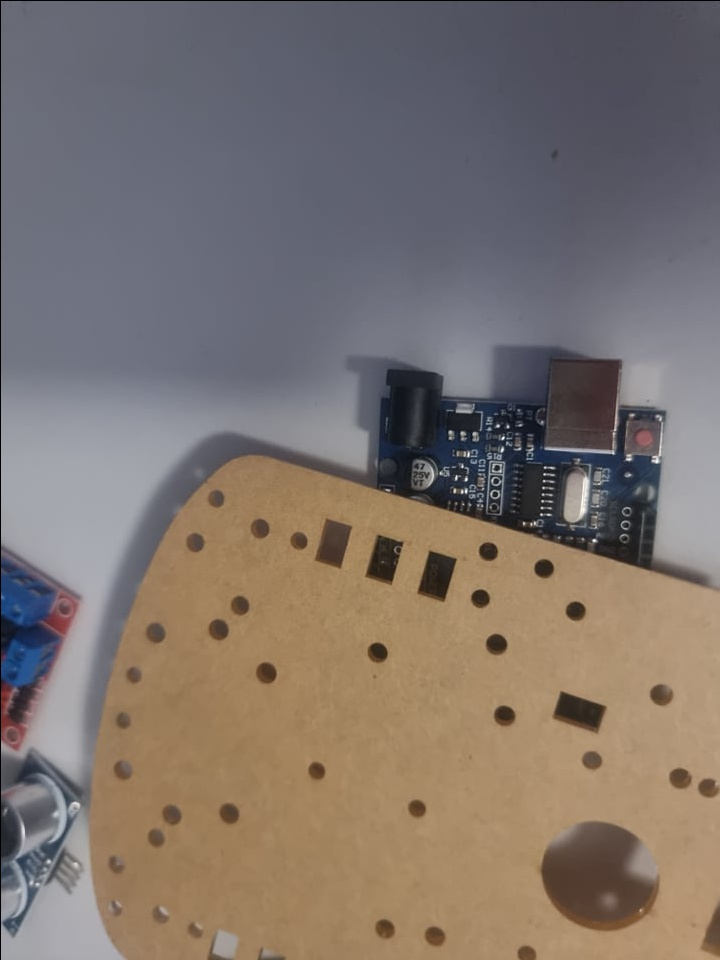UNO R3: (364, 358, 667, 572)
